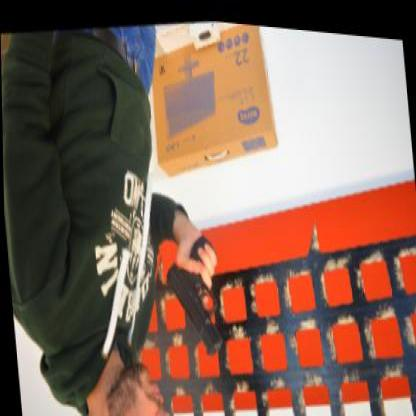pistol: (162, 224, 224, 357)
